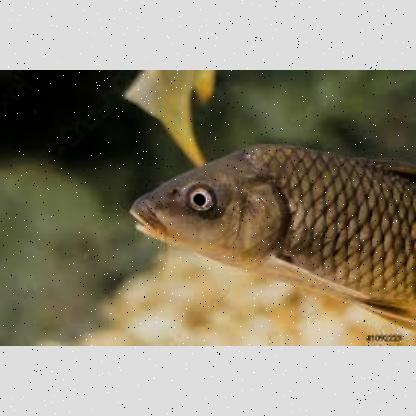ikan-mas: (129, 136, 415, 318)
